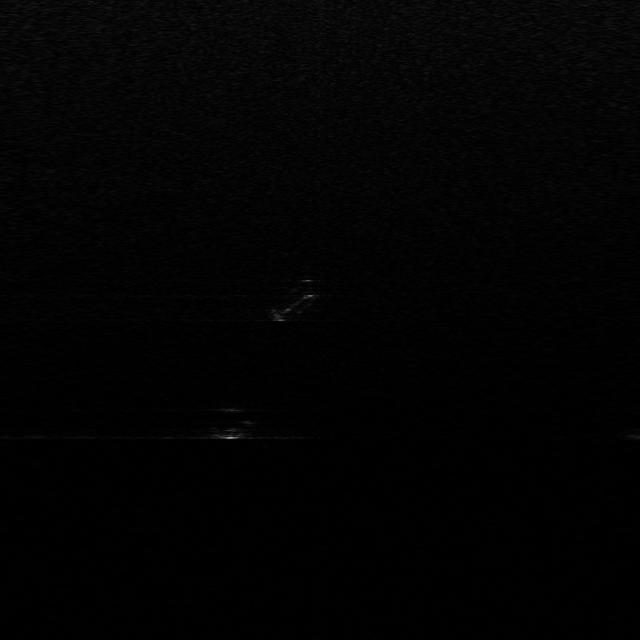ball: (204, 407, 257, 440)
tyre: (272, 282, 317, 320)
